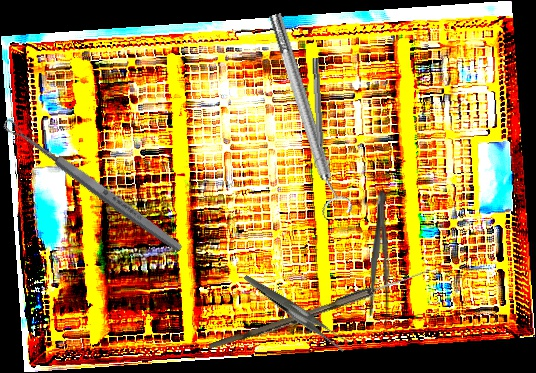Dressing Forceps: (243, 250, 352, 373), (367, 189, 393, 328)
Fixation Ring: (260, 9, 355, 221), (307, 57, 331, 168)
Surgical Spoon: (1, 116, 185, 255), (208, 264, 432, 355)
